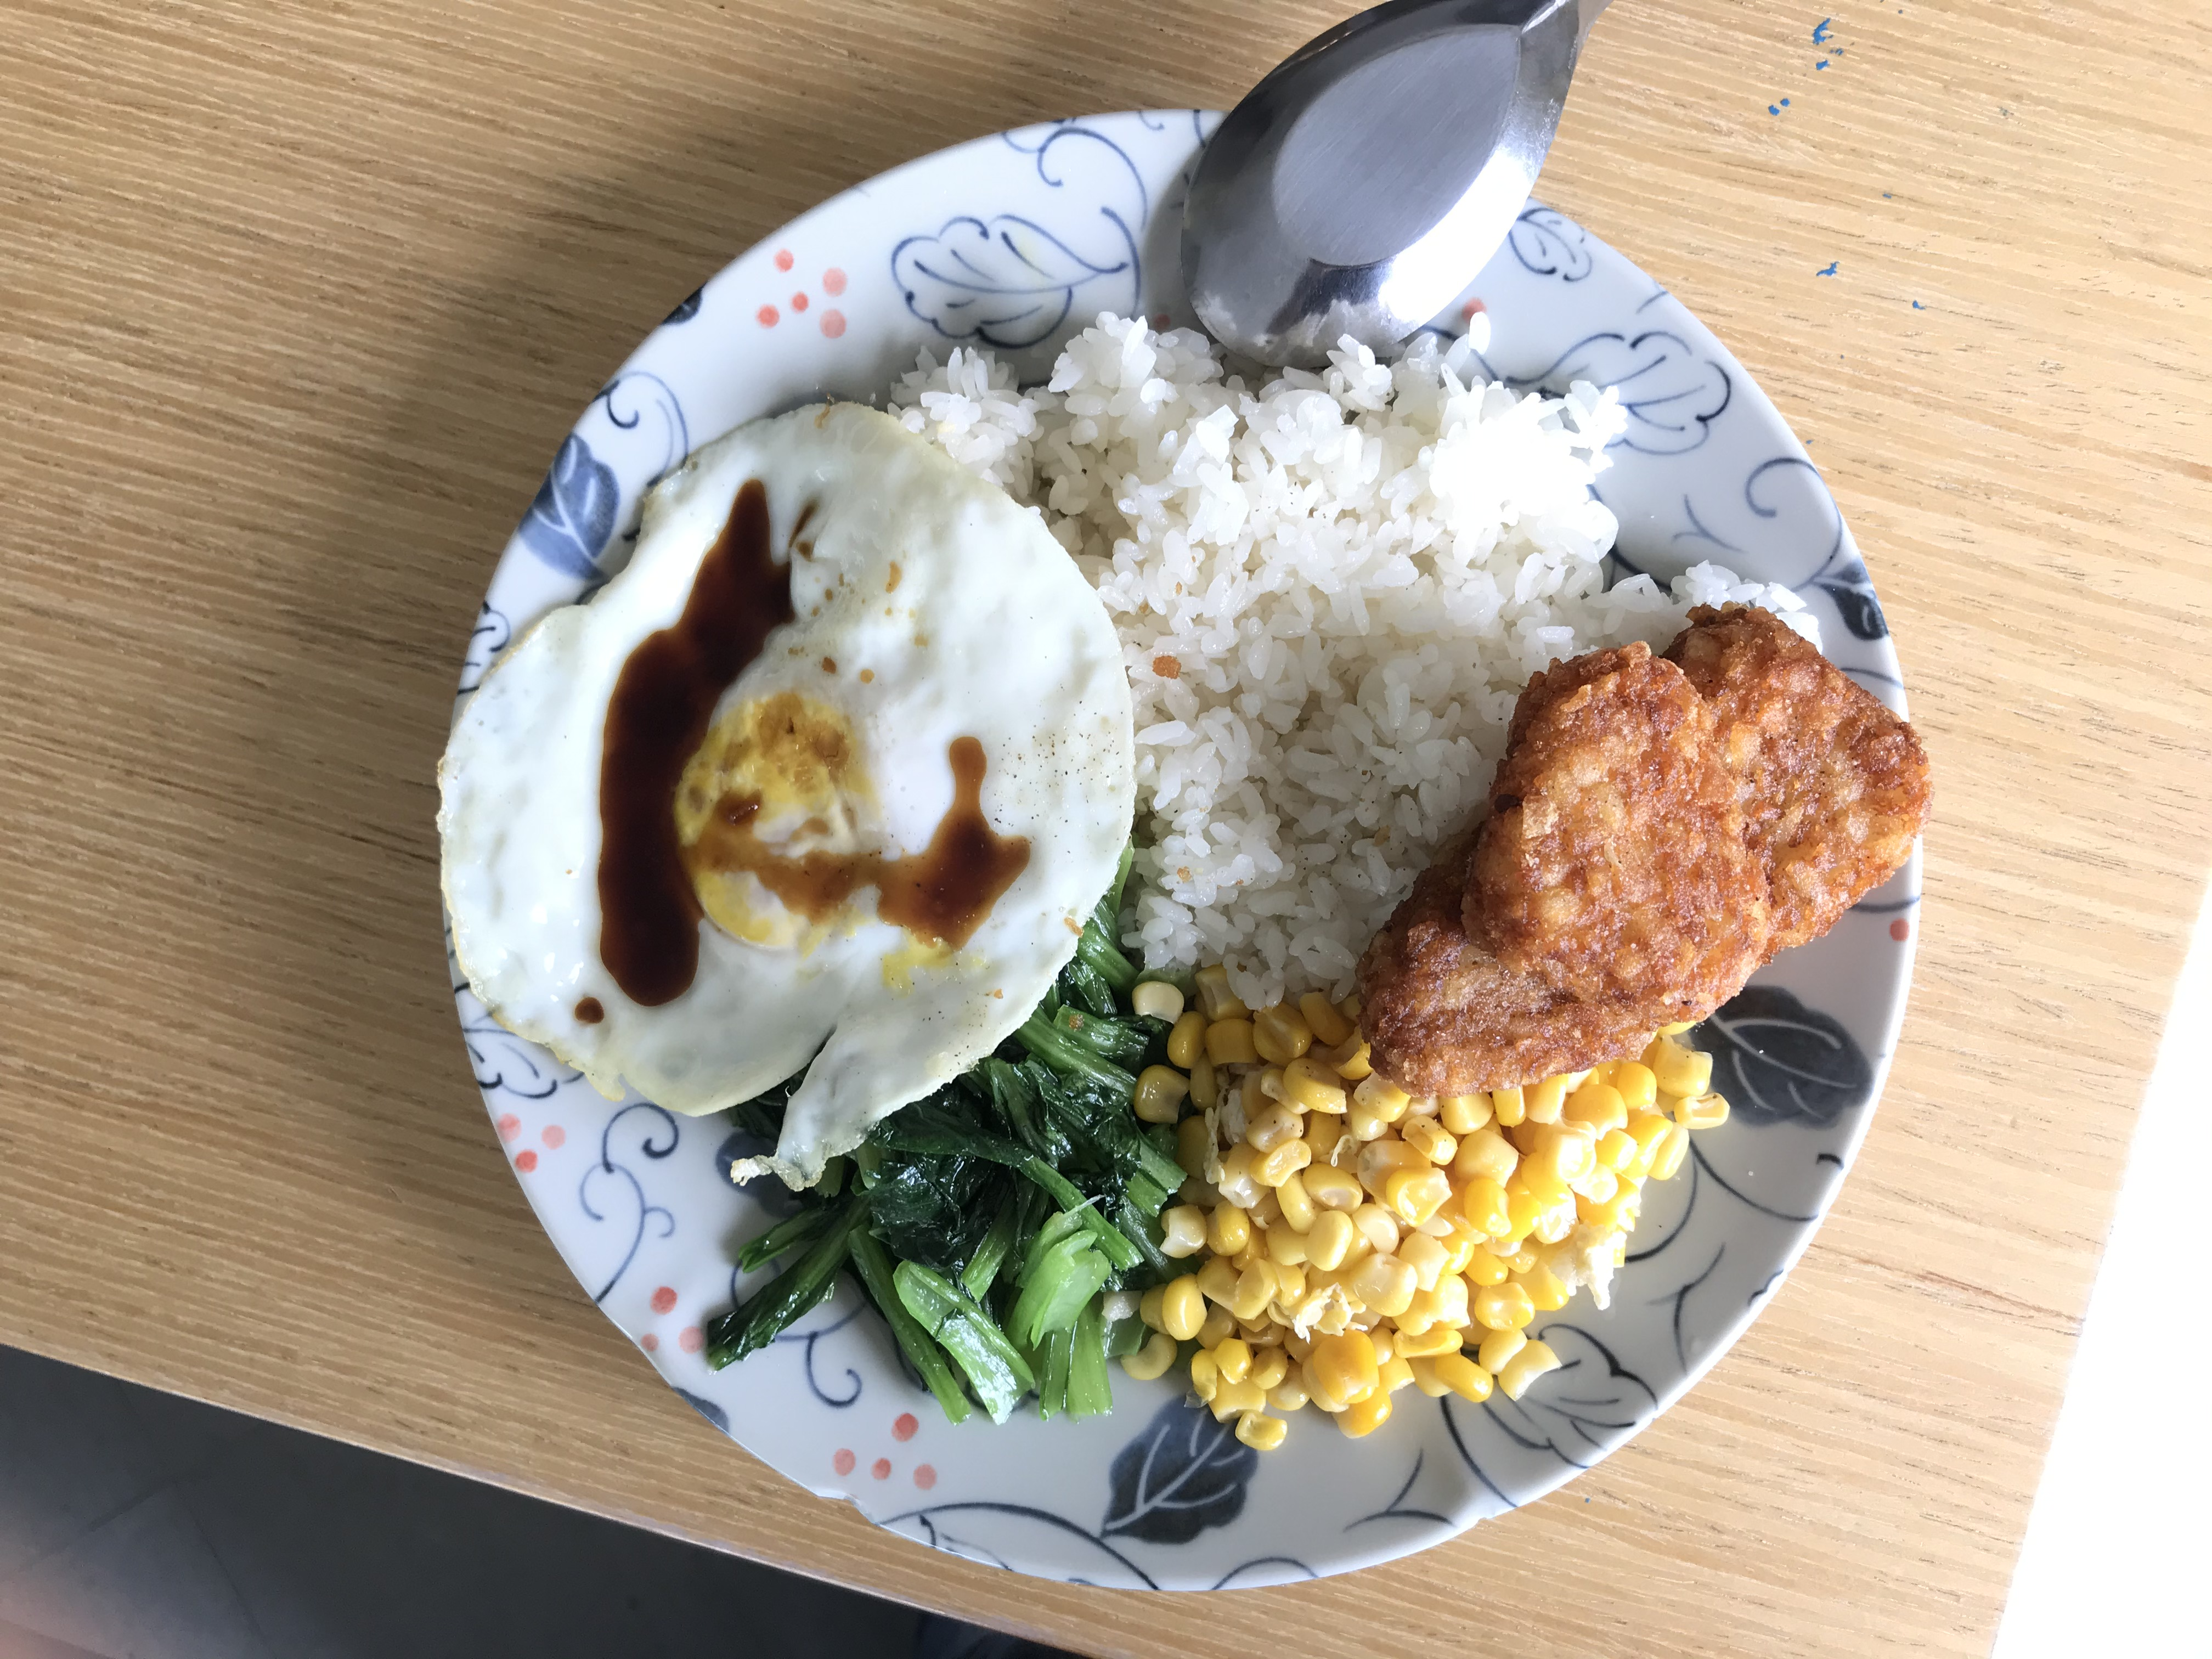fried_eggs: (442, 403, 1134, 1119)
rice: (1139, 343, 1514, 903)
triangle_hash_brown: (1359, 606, 1930, 1096)
water_spinach: (714, 967, 1193, 1422)
